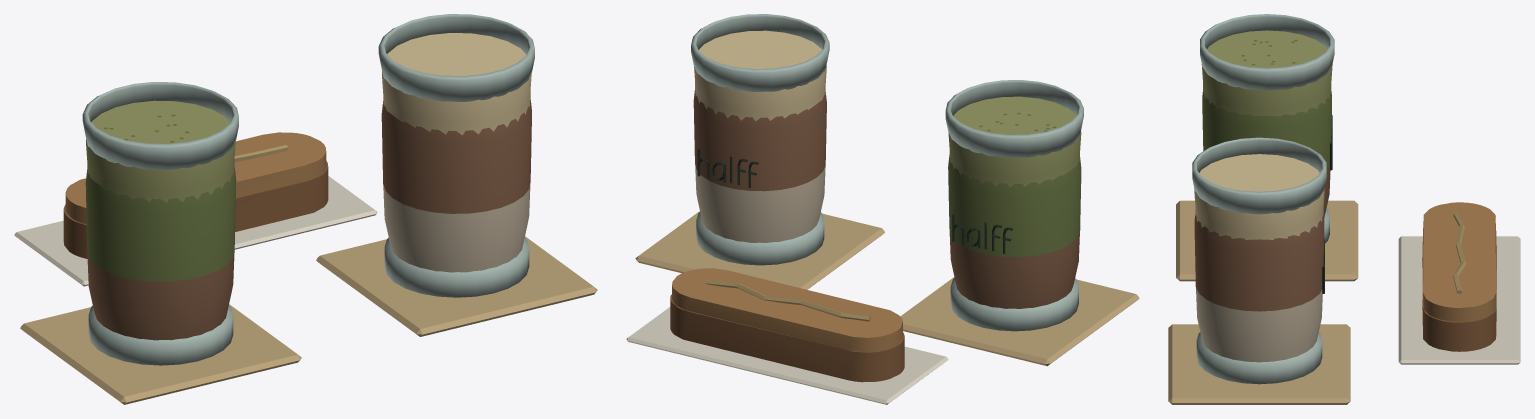
The model's file is latte.glb.
The picture shows the model from 3 angles, left to right: view 1: azimuth 30°, elevation 25°; view 2: azimuth 150°, elevation 25°; view 3: azimuth 270°, elevation 25°; orthographic projection. The views are drawn at different scales.
Visible parts, largest first — view 1: HalffLatte; view 2: HalffLatte; view 3: HalffLatte.
Part boxes in pixels (x1=…): HalffLatte: x1=14, y1=14, x2=597, y2=404; HalffLatte: x1=626, y1=14, x2=1139, y2=404; HalffLatte: x1=1168, y1=14, x2=1520, y2=404.
Bounding box in the file's own units: 0.37 × 0.175 × 0.2745.
